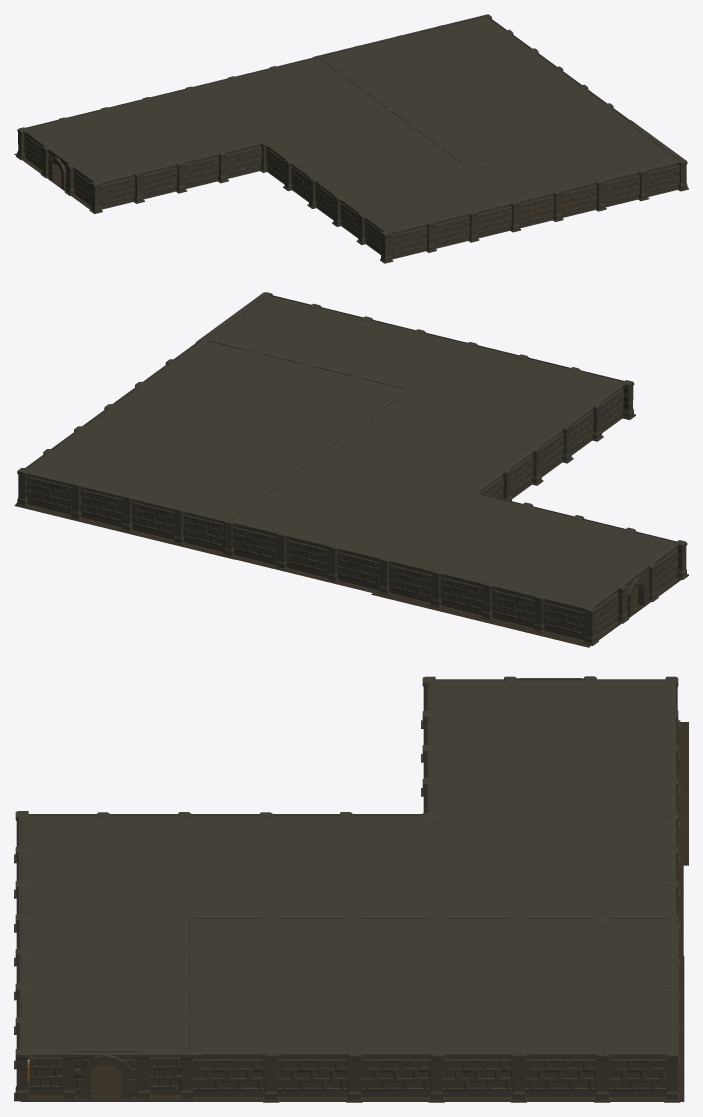
Rendered from 9komnata1lvl.fbx.
The picture shows the model from 3 angles, top to bottom: view 1: azimuth 30°, elevation 25°; view 2: azimuth 150°, elevation 25°; view 3: azimuth 270°, elevation 25°; orthographic projection. The views are drawn at different scales.
Visible parts, largest first — view 1: криша 2.010, Plane.387, Plane.392, Plane.389, Plane.391, Plane.368, Plane.388, Plane.369, Plane.370, Plane.367, Plane.390, Plane.393 (+9 smaller); view 2: криша 2.010, Plane.398, Plane.371, Plane.453, Plane.363, Plane.364, Plane.362, Plane.366, Plane.365, Plane.361, Plane.415, Plane.416 (+8 smaller); view 3: криша 2.010, Plane.398, Plane.413, Plane.409, Plane.412, Plane.411, Plane.410, Plane.408, Plane.504, Plane.396, Plane.394, Cube.380 (+9 smaller).
Boxes of the visible parts, x1,y1,x2,y2 form: криша 2.010: (24,16,683,232); Plane.387: (390,223,427,259); Plane.392: (560,181,597,217); Plane.389: (517,192,554,227); Plane.391: (603,171,639,207); Plane.368: (141,163,177,198); Plane.388: (434,212,469,248); Plane.369: (225,142,261,178); Plane.370: (183,153,219,188); Plane.367: (99,173,135,209); Plane.390: (476,202,511,238); Plane.393: (644,161,680,196); криша 2.010: (25,295,677,608); Plane.398: (14,418,681,647); Plane.371: (232,521,277,565); Plane.453: (24,470,73,515); Plane.363: (388,559,432,603); Plane.364: (336,546,380,590); Plane.362: (491,584,535,628); Plane.366: (285,534,329,577); Plane.365: (440,572,484,615); Plane.361: (543,597,586,640); Plane.415: (131,496,175,540); Plane.416: (80,484,124,527); криша 2.010: (19,680,678,1054); Plane.398: (20,722,688,1101); Plane.413: (192,1052,265,1098); Plane.409: (524,1052,596,1098); Plane.412: (277,1052,348,1098); Plane.411: (360,1052,431,1098); Plane.410: (441,1052,513,1098); Plane.408: (607,1052,678,1098); Plane.504: (70,1051,142,1098); Plane.396: (29,1050,63,1096); Plane.394: (148,1050,182,1096); Cube.380: (263,1050,279,1102).
Size of the model in its own units: 13934 by 844 by 10445.
